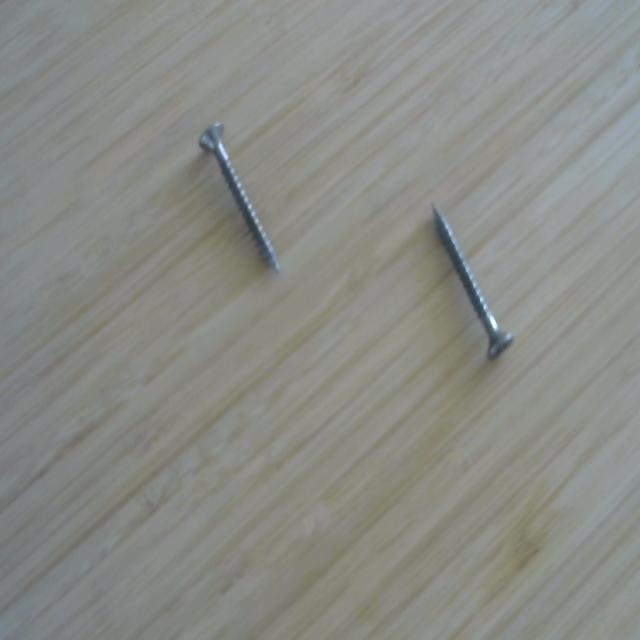Black screw: (418, 193, 527, 376), (193, 109, 288, 286)
